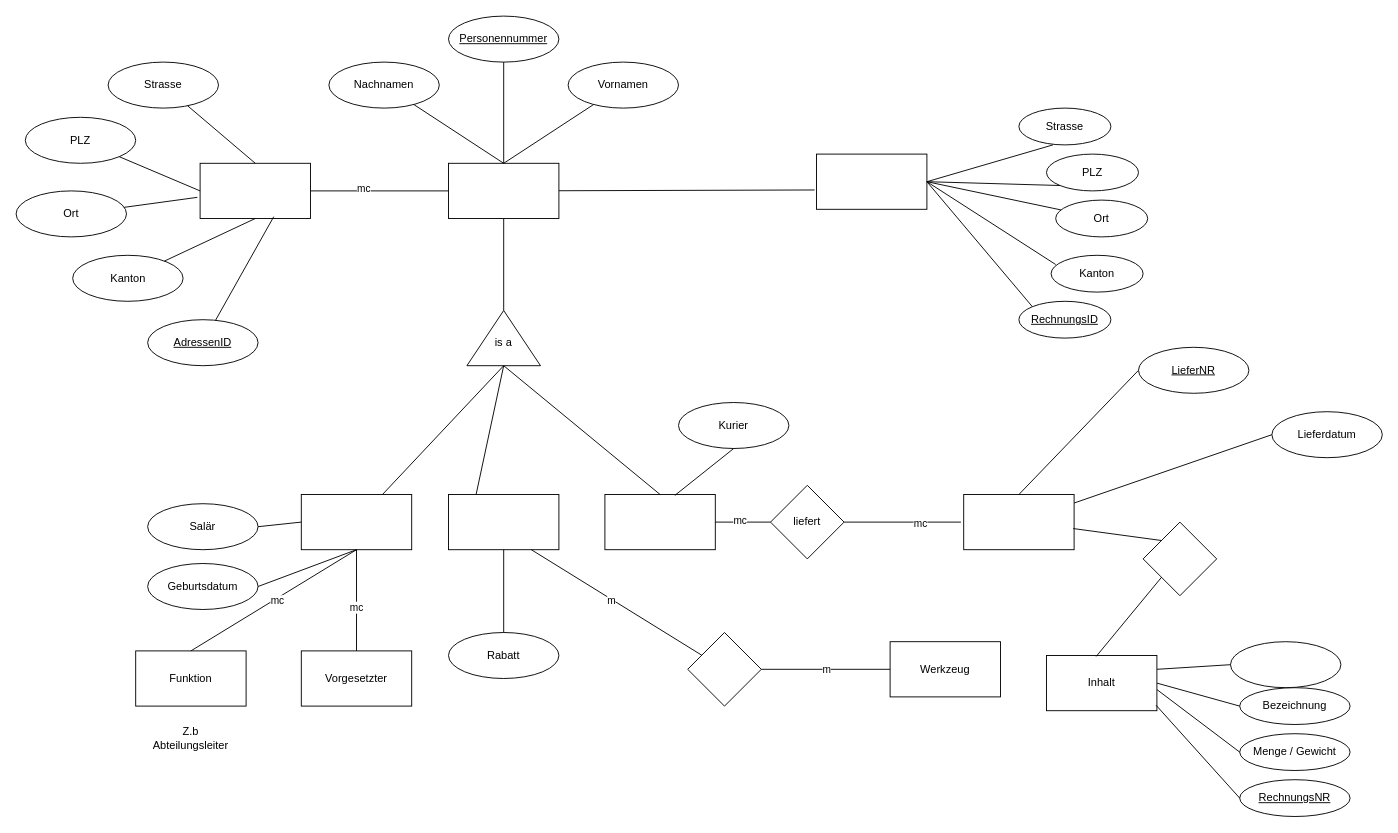
Some shapes in this 1398 by 833 pixel diagram are drawn without their labels. The shapes that lost their labels are listed below. From the top down, each one's centre as x and y in pixels, then its label:
[254,190]: Lieferadresse
[503,190]: Person
[871,181]: Rechnungsadresse
[356,522]: Mitarbeiter
[503,522]: Kunde
[659,522]: Lieferant
[1018,522]: Paket
[1179,558]: beihnaltet
[724,669]: kauft
[1285,664]: Rohmaterialnummer
